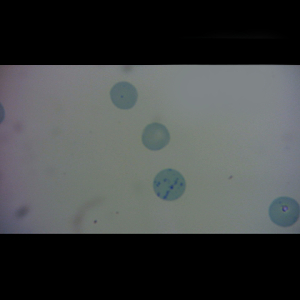aggregate reticulocyte: (151, 167, 188, 202)
erythrocyte: (140, 121, 172, 152)
punctate reticulocyte: (267, 195, 300, 229), (109, 80, 139, 112)
